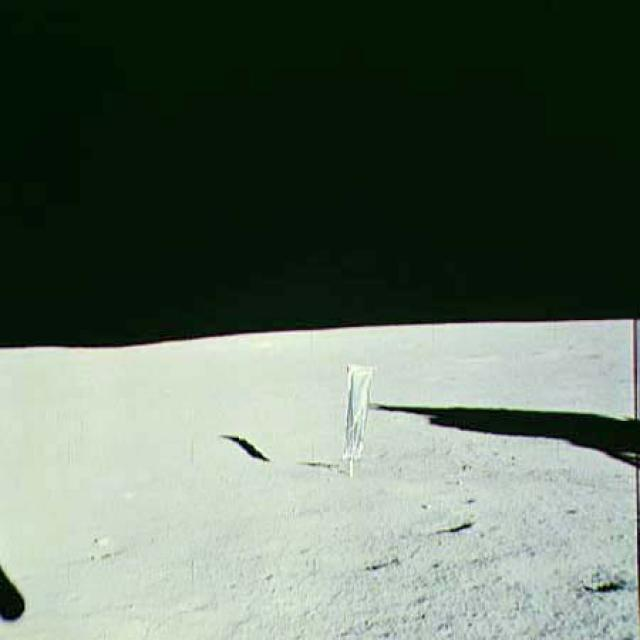crater: (486, 538, 638, 600), (309, 529, 404, 586), (390, 509, 472, 536)
